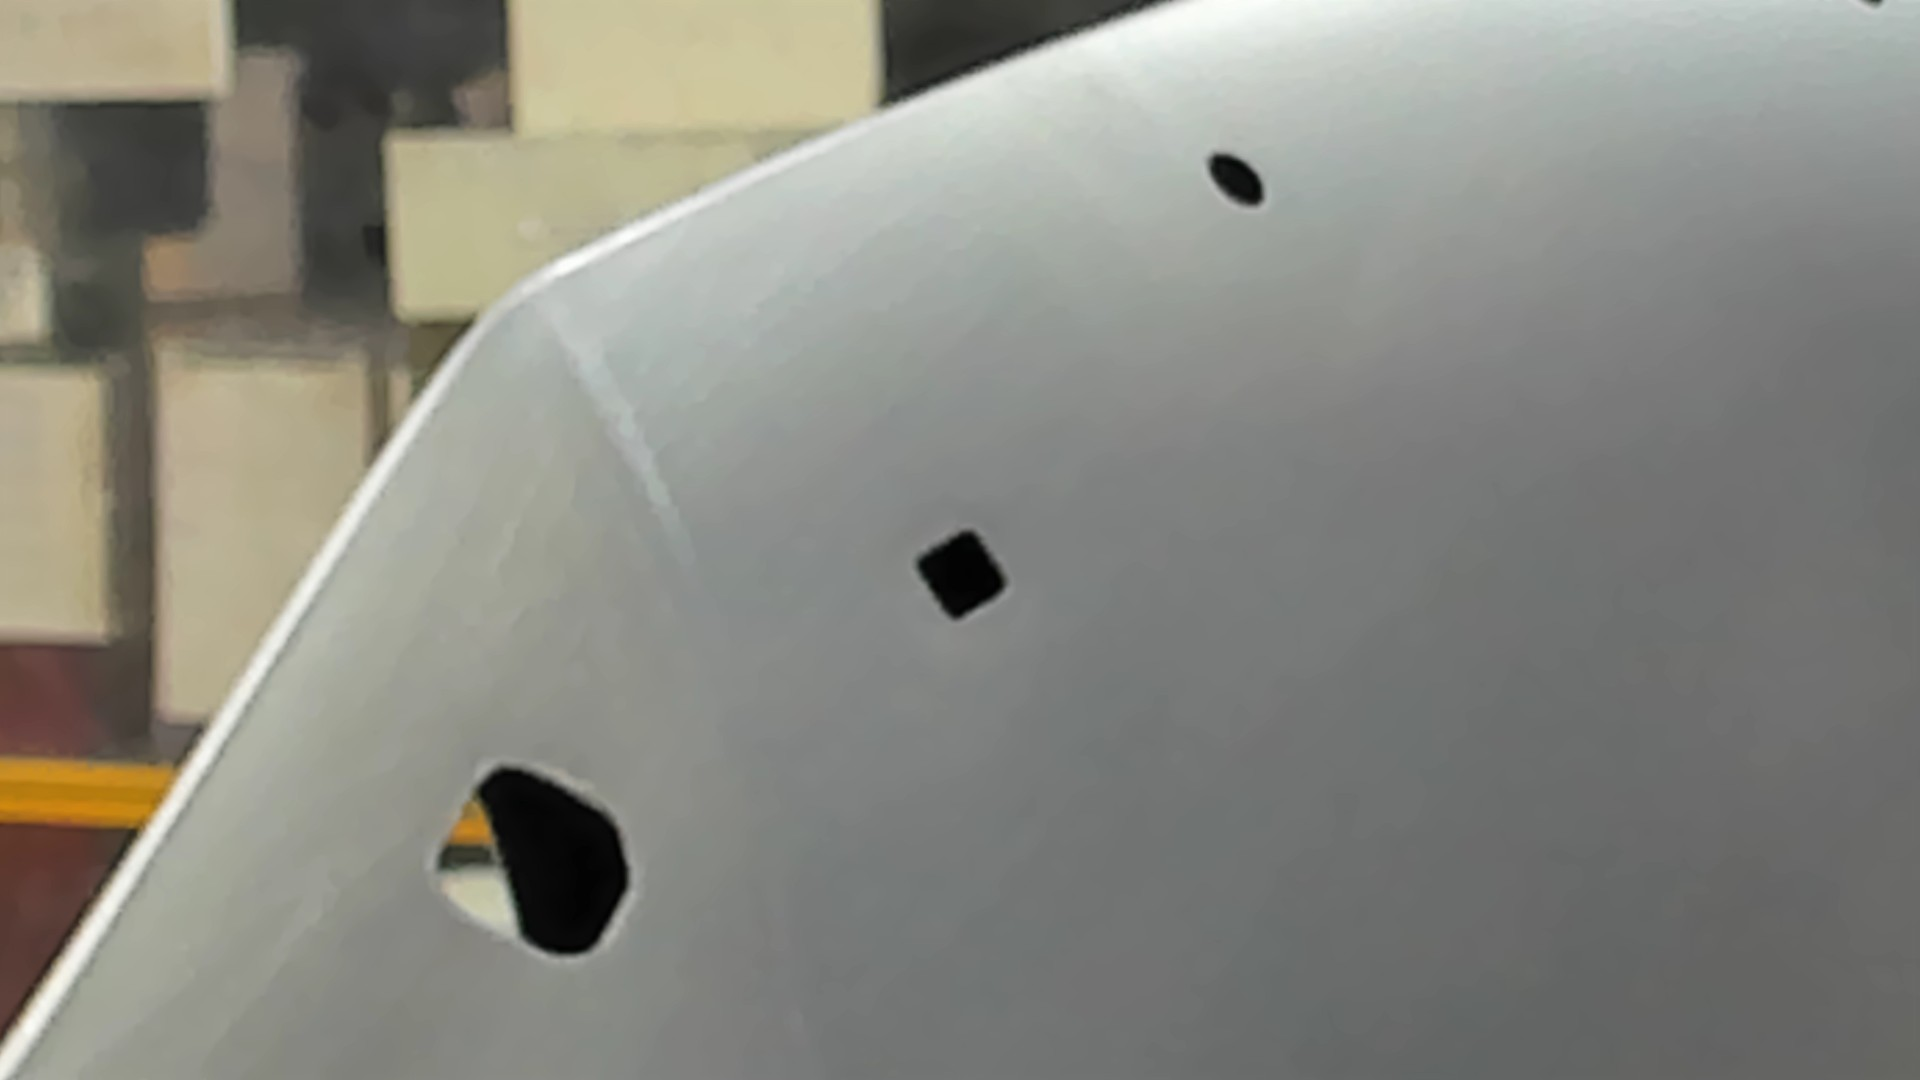chico: (1201, 145, 1271, 211)
grande: (427, 756, 640, 965)
mediano: (911, 524, 1013, 624)
